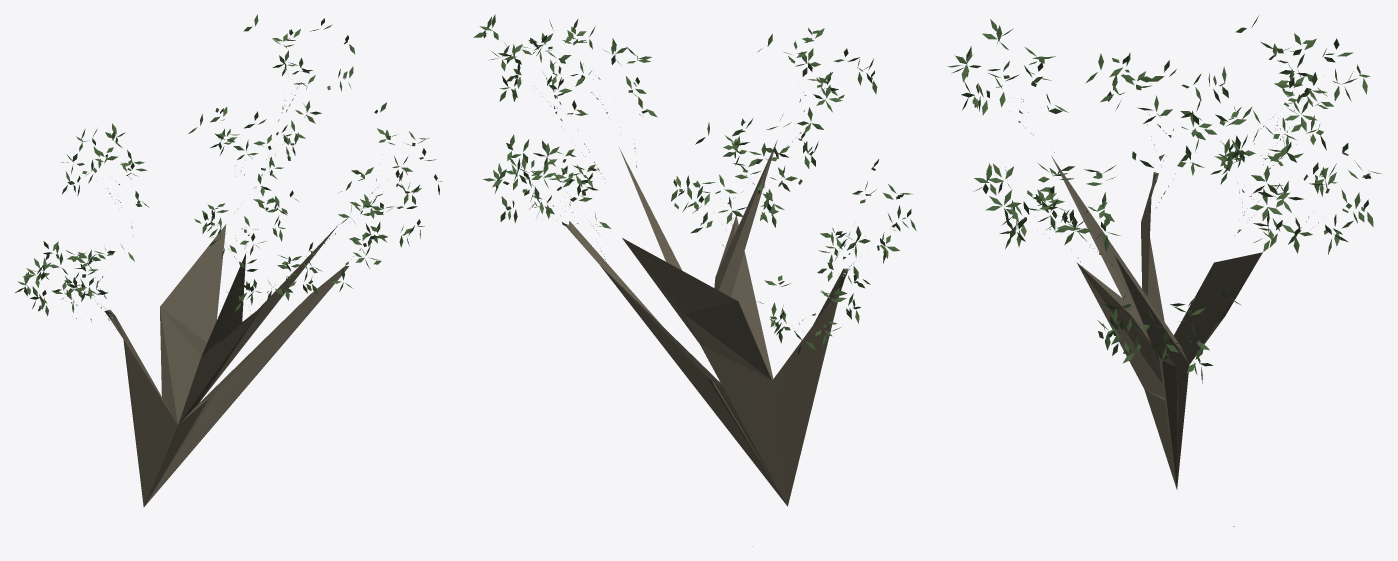
File: CheneVert_2_Niveau2.fbx
3 renders of one model, left to right at view 1: azimuth 30°, elevation 25°; view 2: azimuth 150°, elevation 25°; view 3: azimuth 270°, elevation 25°, orthographic. The views are drawn at different scales.
Parts seen in each view (by area): view 1: CheneVert_2_Niveau2; view 2: CheneVert_2_Niveau2; view 3: CheneVert_2_Niveau2.
Part boxes in pixels (x1,y1,x2,y2): CheneVert_2_Niveau2: (15, 14, 442, 507); CheneVert_2_Niveau2: (473, 15, 916, 546); CheneVert_2_Niveau2: (947, 16, 1382, 526).
Bounding box in the file's own units: 430 × 488 × 332.
